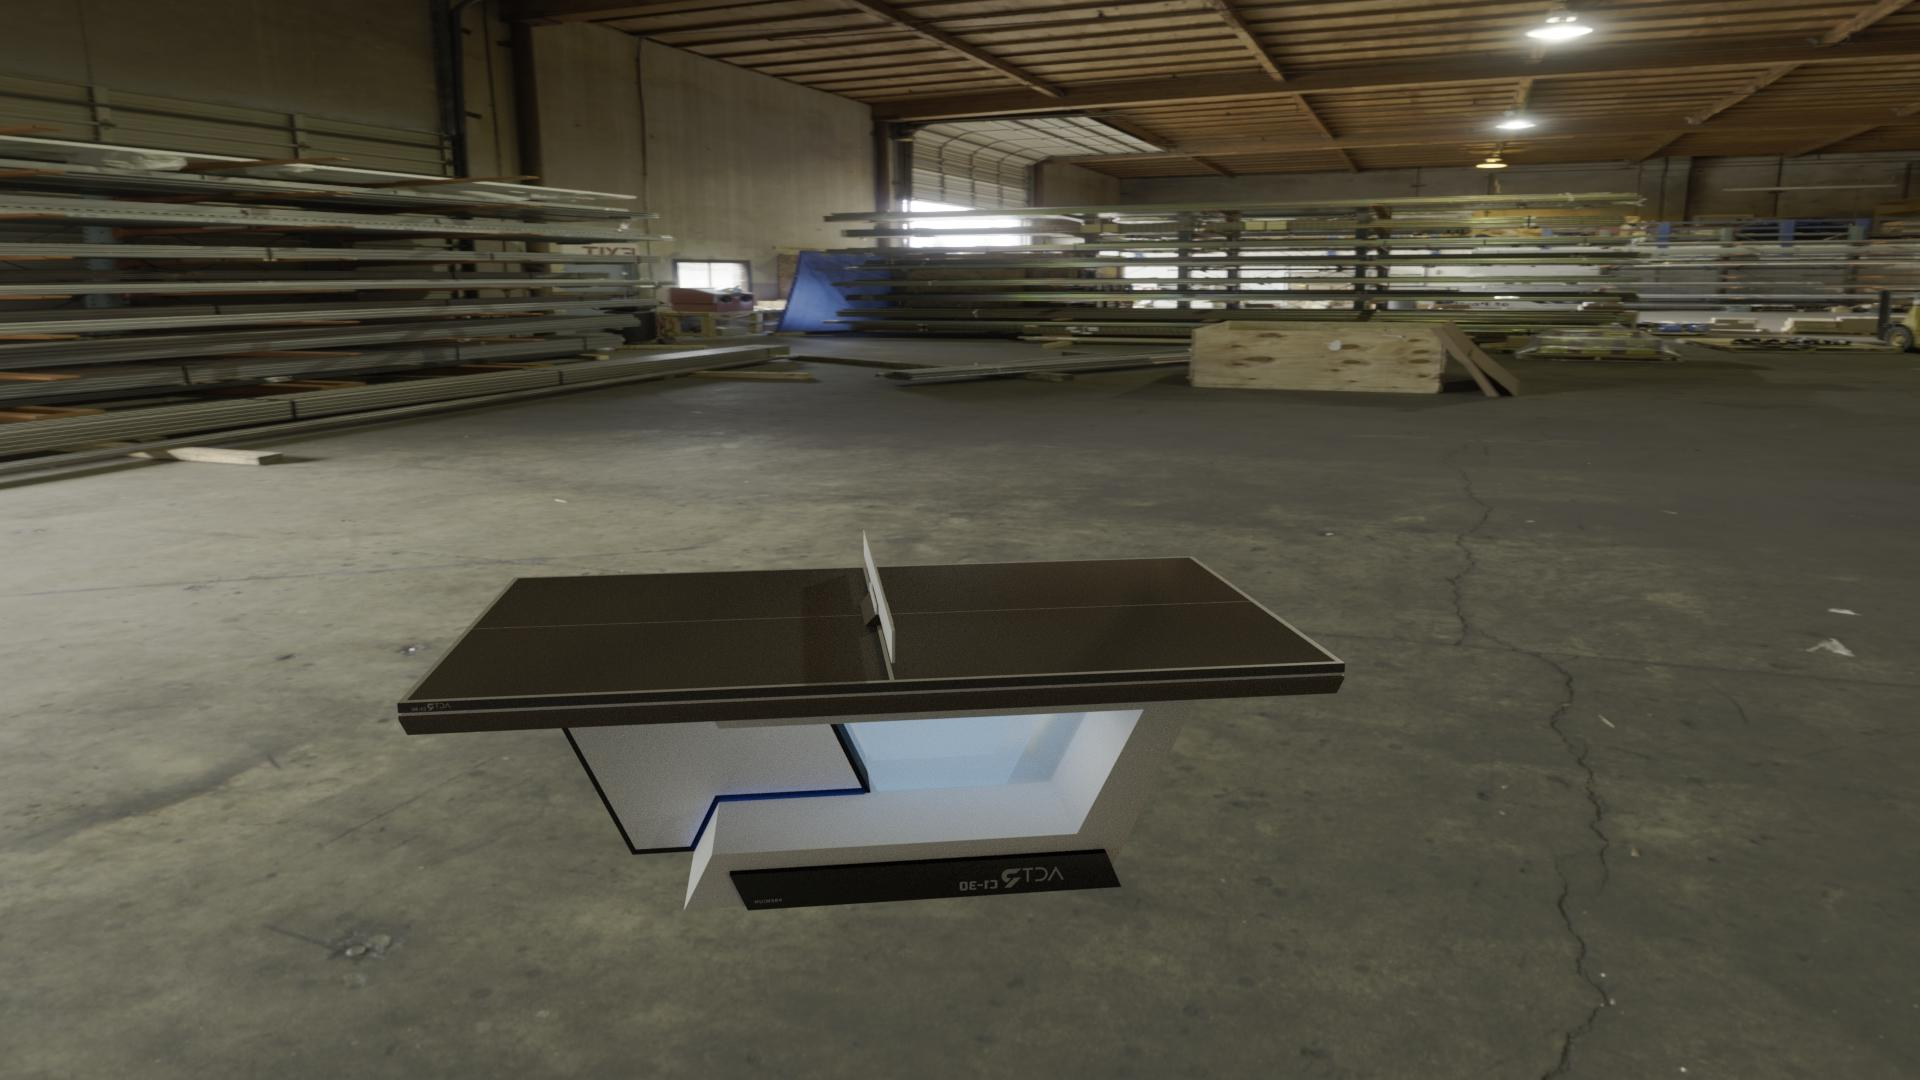table: (406, 558, 1336, 700)
